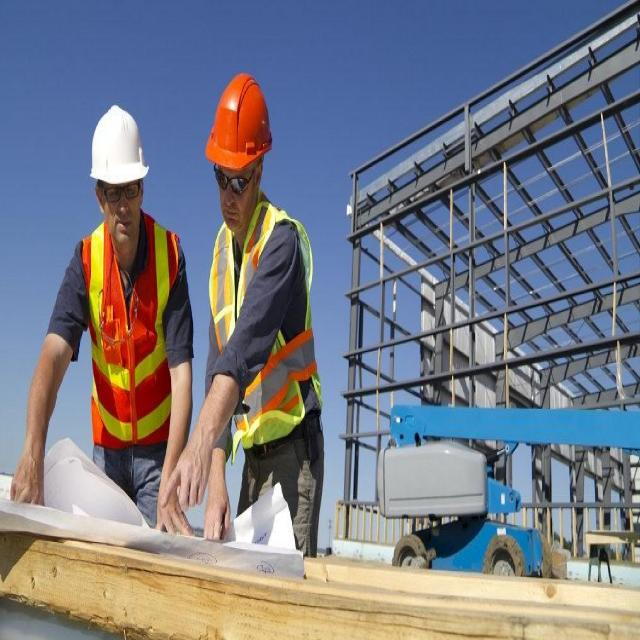Reflective-Jacket: (207, 202, 326, 446), (77, 217, 184, 445)
Safety-Helmet: (204, 66, 275, 176), (88, 97, 149, 191)
